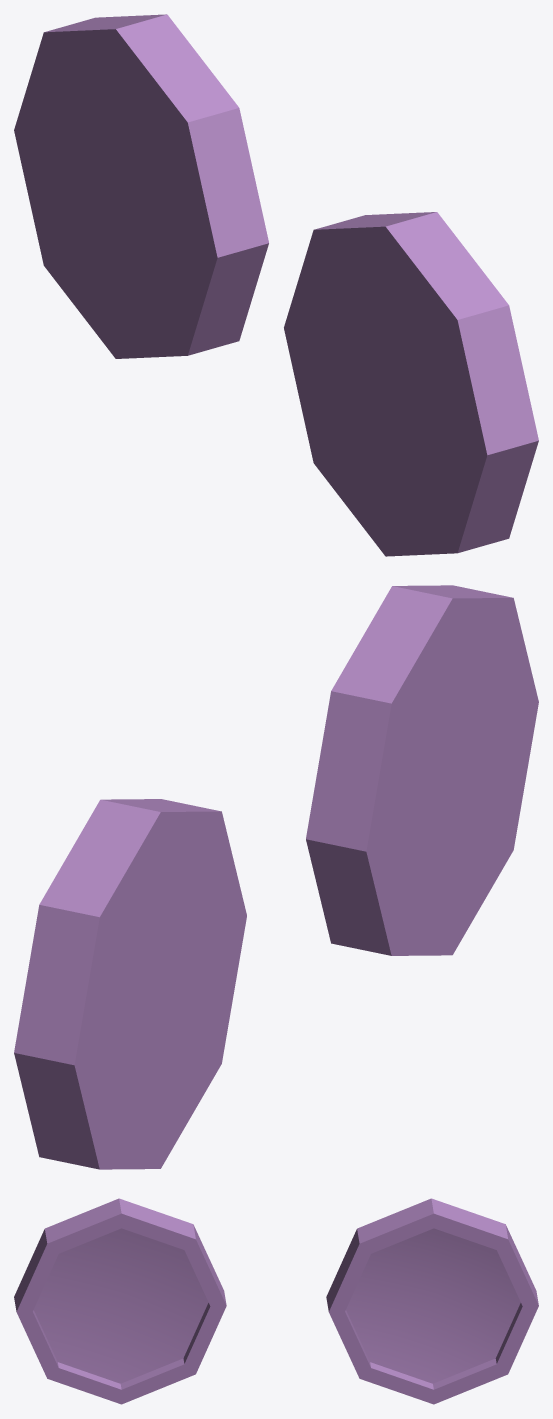
3 renders of one model, top to bottom at view 1: azimuth 30°, elevation 25°; view 2: azimuth 150°, elevation 25°; view 3: azimuth 270°, elevation 25°, orthographic. The views are drawn at different scales.
Visible parts, largest first — view 1: pCylinder8; view 2: pCylinder8; view 3: pCylinder8.
Boxes of the visible parts, left/top/right/bottom form: pCylinder8: left=14, top=14, right=538, bottom=556; pCylinder8: left=14, top=585, right=538, bottom=1169; pCylinder8: left=14, top=1198, right=538, bottom=1404.
Bounding box in the file's own units: 0.1395 × 0.5803 × 1.45.
